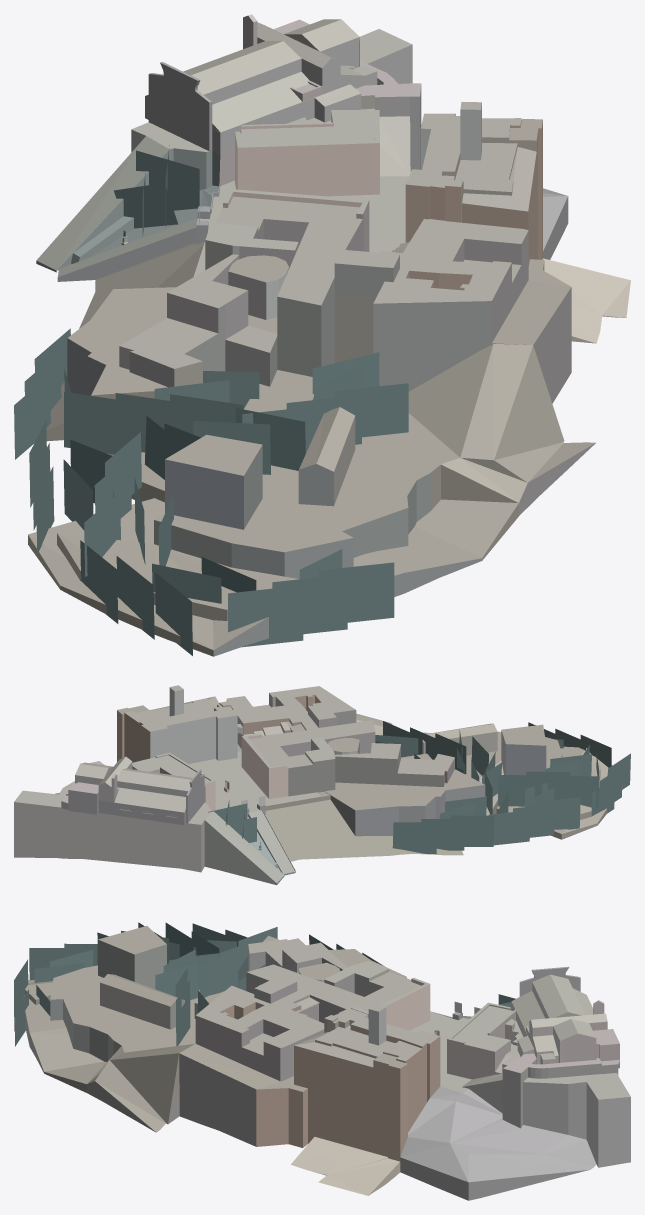
File: campidoglio.view.glb
The picture shows the model from 3 angles, top to bottom: view 1: azimuth 30°, elevation 25°; view 2: azimuth 150°, elevation 25°; view 3: azimuth 270°, elevation 25°; orthographic projection. The views are drawn at different scales.
Visible parts, largest first — view 1: mesh_12_ROOT_Layer0_122_115_100_ss, mesh_14_ROOT_Layer0_132_126_114_ss, mesh_4_ROOT_Layer0_139_136_121_ss, mesh_3_ROOT_Layer0_111_116_112_ss, mesh_10_ROOT_Layer0_123_118_119_ss, mesh_24_ROOT_Layer0_99_107_106_ss, mesh_15_ROOT_Layer0_215_180_164_ss, mesh_5_ROOT_Layer0_133_136_133_ss, mesh_2_ROOT_Layer0_151_118_98_ds, mesh_9_ROOT_Layer0_113_116_105_ss, mesh_26_ROOT_Layer0_94_105_117_ss, mesh_21_ROOT_Layer0_90_107_106_ss (+37 smaller); view 2: mesh_30_ROOT_Layer0_154_150_148_ss, mesh_14_ROOT_Layer0_132_126_114_ss, mesh_4_ROOT_Layer0_139_136_121_ss, mesh_12_ROOT_Layer0_122_115_100_ss, mesh_20_ROOT_Layer0_100_96_82_ss, mesh_18_ROOT_Layer0_98_97_96_ss, mesh_17_ROOT_Layer0_156_162_159_ss, mesh_11_ROOT_Layer0_110_114_119_ss, mesh_3_ROOT_Layer0_111_116_112_ss, mesh_9_ROOT_Layer0_113_116_105_ss, mesh_8_ROOT_Layer0_115_114_118_ss, mesh_15_ROOT_Layer0_215_180_164_ss (+35 smaller); view 3: mesh_0_ROOT_Layer0_118_116_118_ss, mesh_12_ROOT_Layer0_122_115_100_ss, mesh_2_ROOT_Layer0_151_118_98_ds, mesh_14_ROOT_Layer0_132_126_114_ss, mesh_10_ROOT_Layer0_123_118_119_ss, mesh_4_ROOT_Layer0_139_136_121_ss, mesh_6_ROOT_Layer0_152_136_137_ss, mesh_28_ROOT_Layer0_172_157_136_ss, mesh_24_ROOT_Layer0_99_107_106_ss, mesh_31_ROOT_Layer0_141_142_143_ss, mesh_3_ROOT_Layer0_111_116_112_ss, mesh_27_ROOT_Layer0_136_133_125_ss (+12 smaller).
Part boxes in pixels (x1,y1,x2,y2): mesh_12_ROOT_Layer0_122_115_100_ss: [28, 119, 595, 656]; mesh_14_ROOT_Layer0_132_126_114_ss: [119, 101, 536, 368]; mesh_4_ROOT_Layer0_139_136_121_ss: [131, 19, 412, 276]; mesh_3_ROOT_Layer0_111_116_112_ss: [185, 263, 491, 391]; mesh_10_ROOT_Layer0_123_118_119_ss: [119, 212, 595, 560]; mesh_24_ROOT_Layer0_99_107_106_ss: [154, 445, 482, 656]; mesh_15_ROOT_Layer0_215_180_164_ss: [228, 124, 379, 207]; mesh_5_ROOT_Layer0_133_136_133_ss: [204, 37, 444, 220]; mesh_2_ROOT_Layer0_151_118_98_ds: [210, 101, 544, 344]; mesh_9_ROOT_Layer0_113_116_105_ss: [36, 136, 197, 276]; mesh_26_ROOT_Layer0_94_105_117_ss: [165, 459, 243, 529]; mesh_21_ROOT_Layer0_90_107_106_ss: [36, 148, 220, 272]; mesh_30_ROOT_Layer0_154_150_148_ss: [14, 802, 204, 872]; mesh_14_ROOT_Layer0_132_126_114_ss: [125, 685, 454, 775]; mesh_4_ROOT_Layer0_139_136_121_ss: [14, 733, 335, 824]; mesh_12_ROOT_Layer0_122_115_100_ss: [117, 705, 622, 839]; mesh_20_ROOT_Layer0_100_96_82_ss: [265, 799, 463, 861]; mesh_18_ROOT_Layer0_98_97_96_ss: [288, 756, 443, 835]; mesh_17_ROOT_Layer0_156_162_159_ss: [150, 687, 357, 763]; mesh_11_ROOT_Layer0_110_114_119_ss: [247, 785, 485, 873]; mesh_3_ROOT_Layer0_111_116_112_ss: [204, 710, 505, 885]; mesh_9_ROOT_Layer0_113_116_105_ss: [205, 810, 294, 882]; mesh_8_ROOT_Layer0_115_114_118_ss: [61, 769, 205, 825]; mesh_15_ROOT_Layer0_215_180_164_ss: [204, 735, 288, 810]; mesh_0_ROOT_Layer0_118_116_118_ss: [400, 1063, 618, 1200]; mesh_12_ROOT_Layer0_122_115_100_ss: [24, 926, 407, 1132]; mesh_2_ROOT_Layer0_151_118_98_ds: [220, 982, 593, 1161]; mesh_14_ROOT_Layer0_132_126_114_ss: [196, 938, 439, 1067]; mesh_10_ROOT_Layer0_123_118_119_ss: [44, 953, 522, 1146]; mesh_4_ROOT_Layer0_139_136_121_ss: [324, 961, 630, 1099]; mesh_6_ROOT_Layer0_152_136_137_ss: [354, 1000, 619, 1079]; mesh_28_ROOT_Layer0_172_157_136_ss: [291, 1136, 400, 1195]; mesh_24_ROOT_Layer0_99_107_106_ss: [25, 939, 134, 1072]; mesh_31_ROOT_Layer0_141_142_143_ss: [598, 1097, 630, 1167]; mesh_3_ROOT_Layer0_111_116_112_ss: [134, 944, 285, 1029]; mesh_27_ROOT_Layer0_136_133_125_ss: [100, 982, 170, 1029].
Bounding box in the file's own units: 334 × 98.62 × 360.
